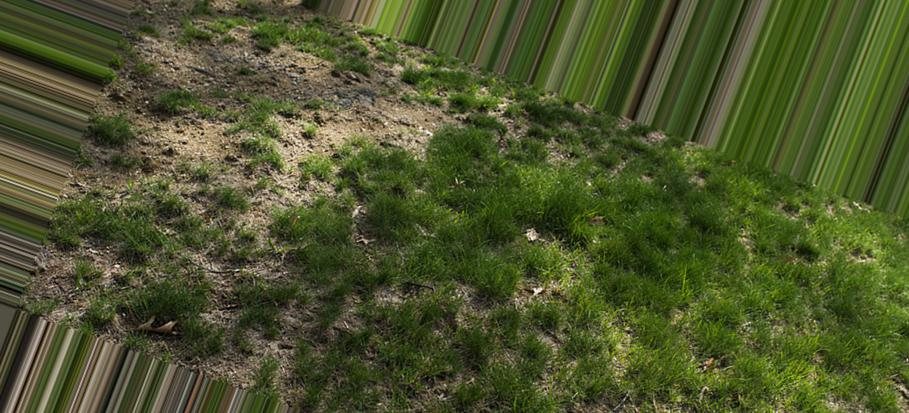patch: (252, 66, 407, 159), (250, 29, 387, 111), (70, 238, 178, 321), (174, 205, 290, 282), (123, 97, 226, 175), (86, 157, 147, 208), (175, 43, 234, 95)
